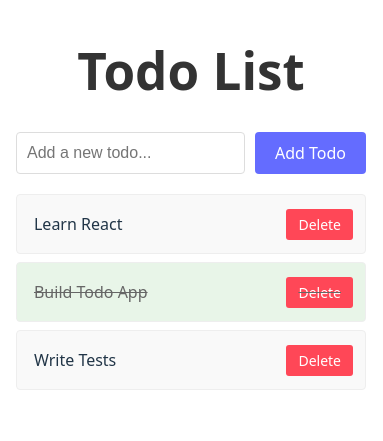
Test: TodoList Component › trims whitespace from todo text
In the field with placeholder "Add a new todo...": point(130, 154) 16,132 -> 245,174, type "  Todo with spaces  "
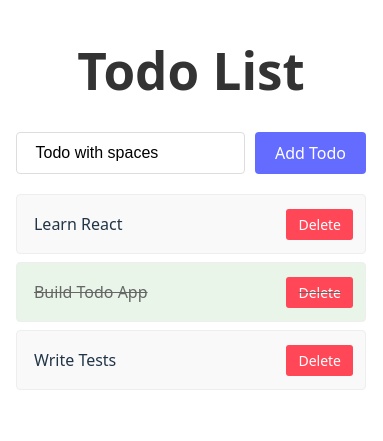
Click the button "Add Todo": point(310, 154) 255,132 -> 366,174
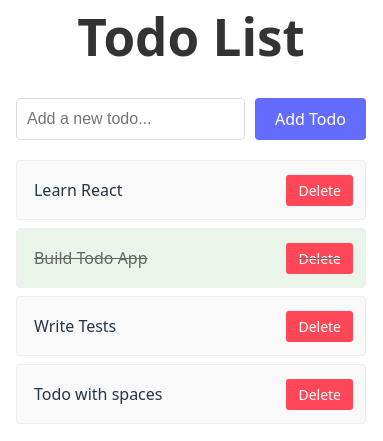
Result: the text "Todo with spaces" is shown at 34,384 -> 162,406
